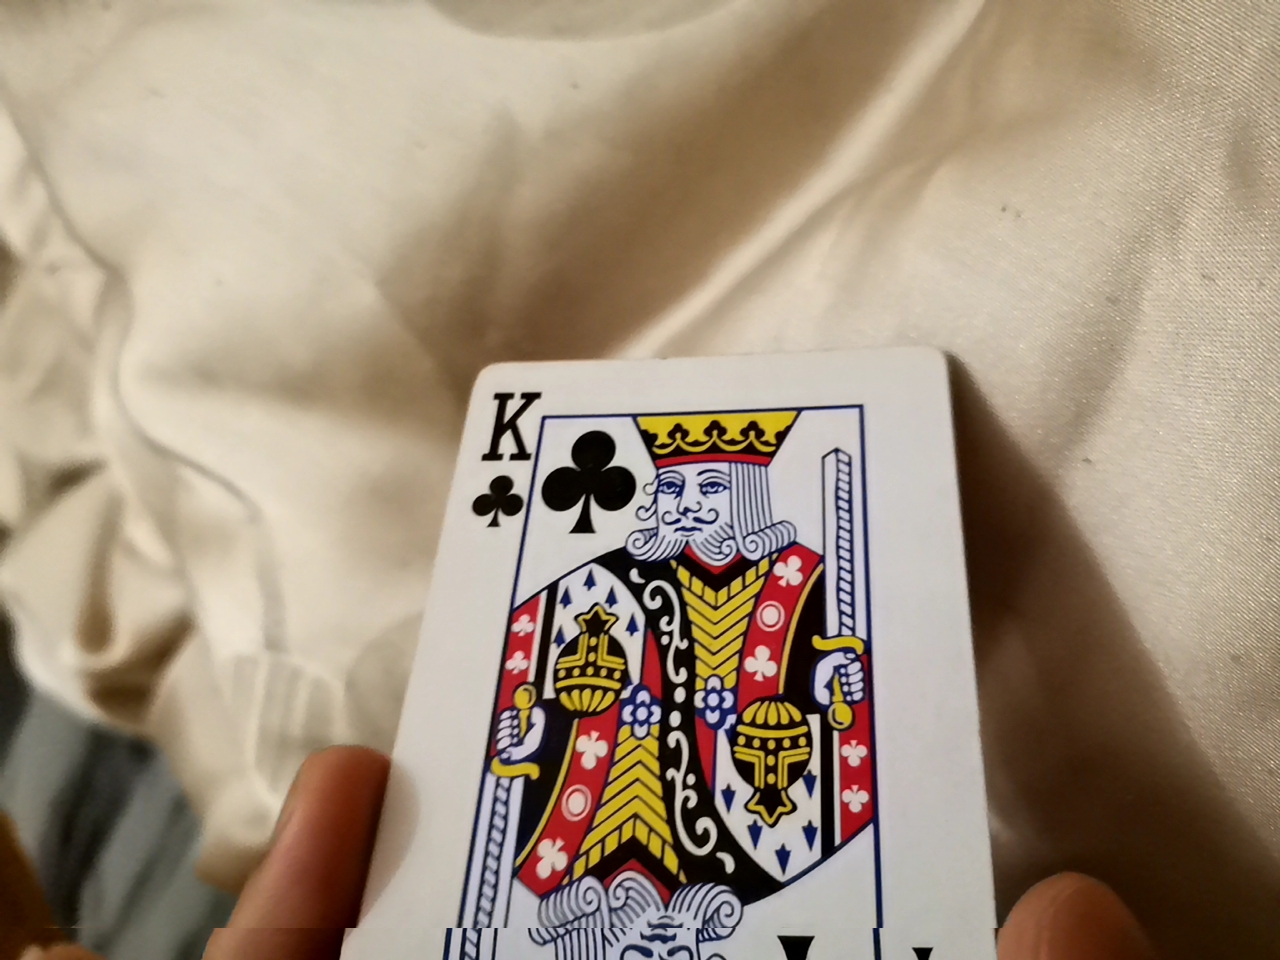mh k: (354, 353, 981, 960)
